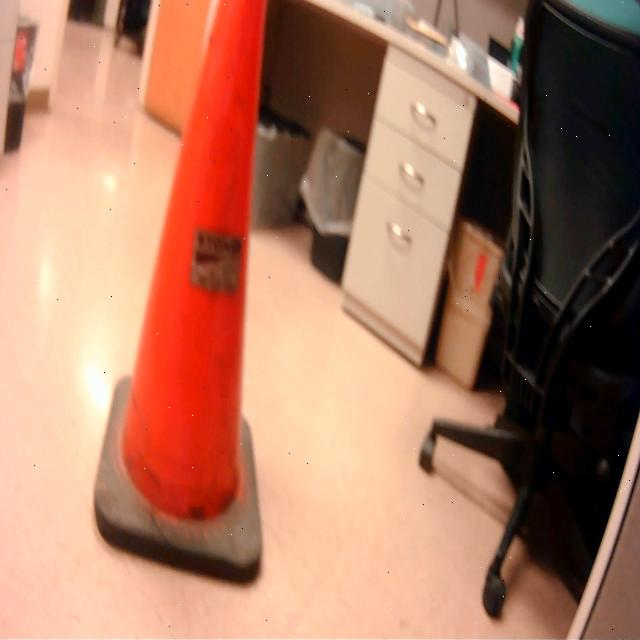traffic cone: (90, 5, 276, 590)
